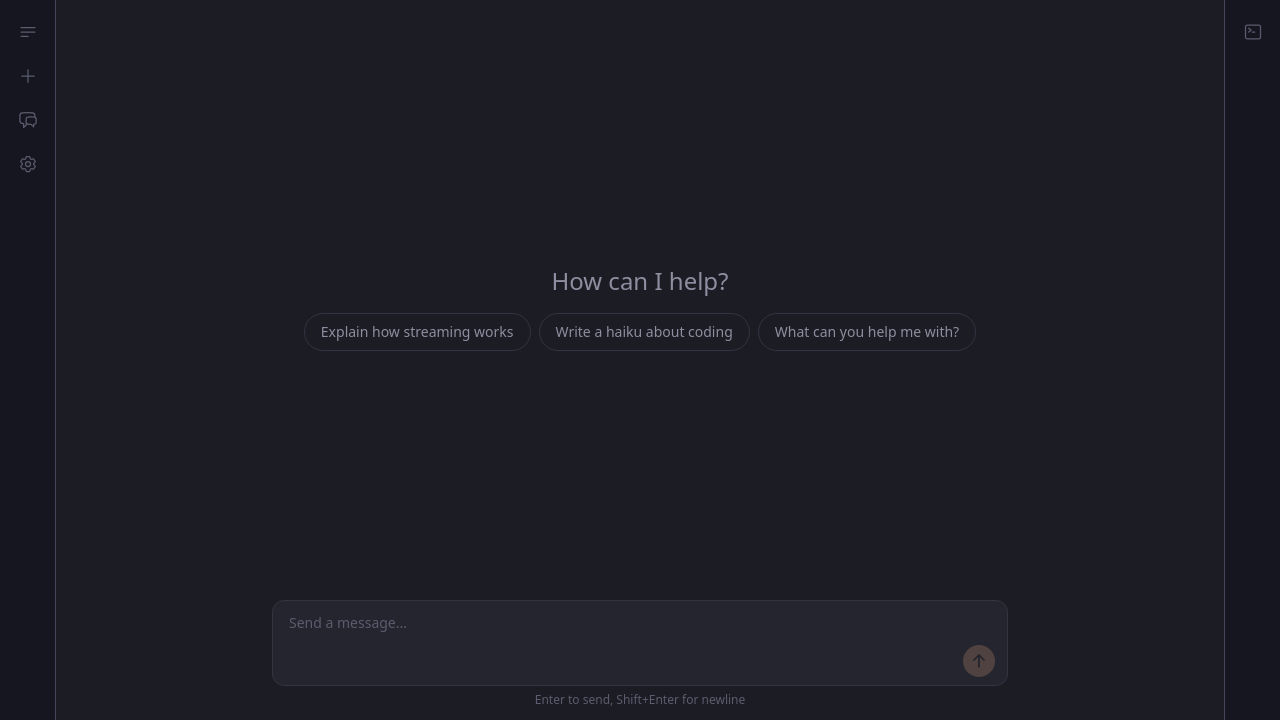
Test: ChatPage — handleSelectConversation › loads messages from history pane into the chat
The width and height of the screenshot is (1280, 720).
Note: Expand history pane via the "View history" icon in the collapsed sidebar
Click the button named "view history": (28, 120) [8,100,47,140]
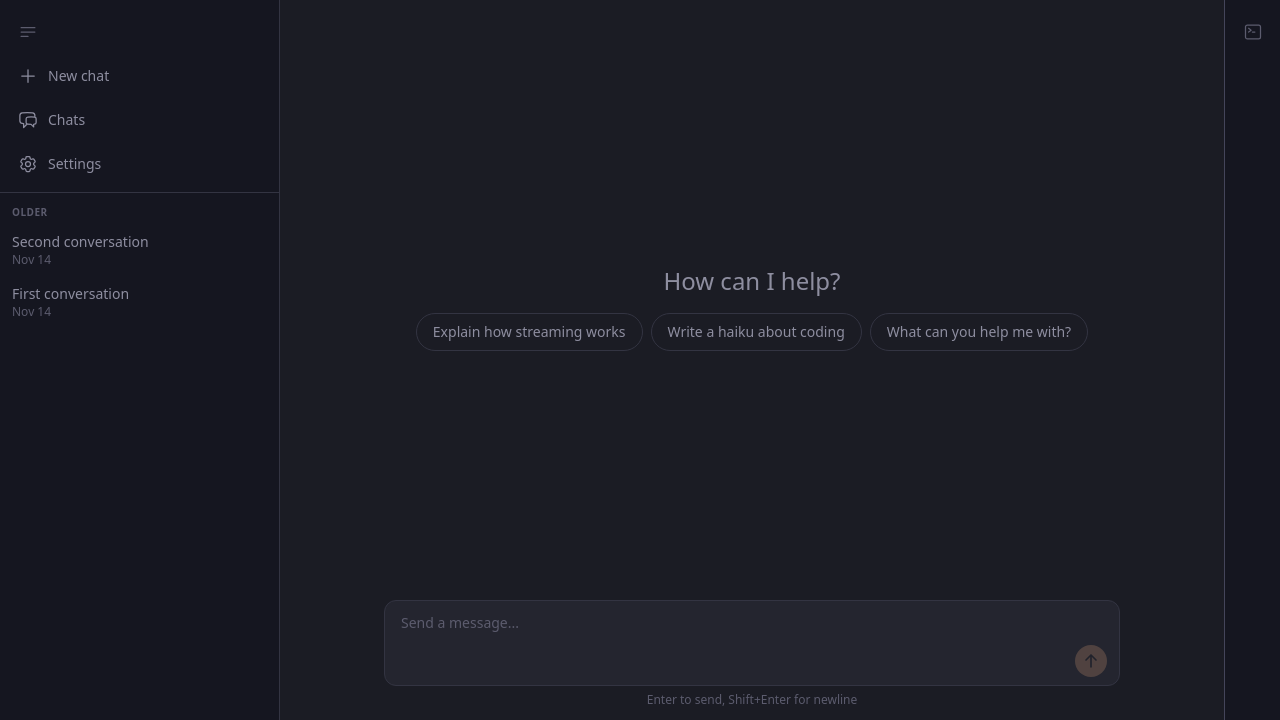
Now the text "First conversation" is shown
Note: Click a conversation to load its messages
Click the text "First conversation": (70, 294) [12,284,129,303]
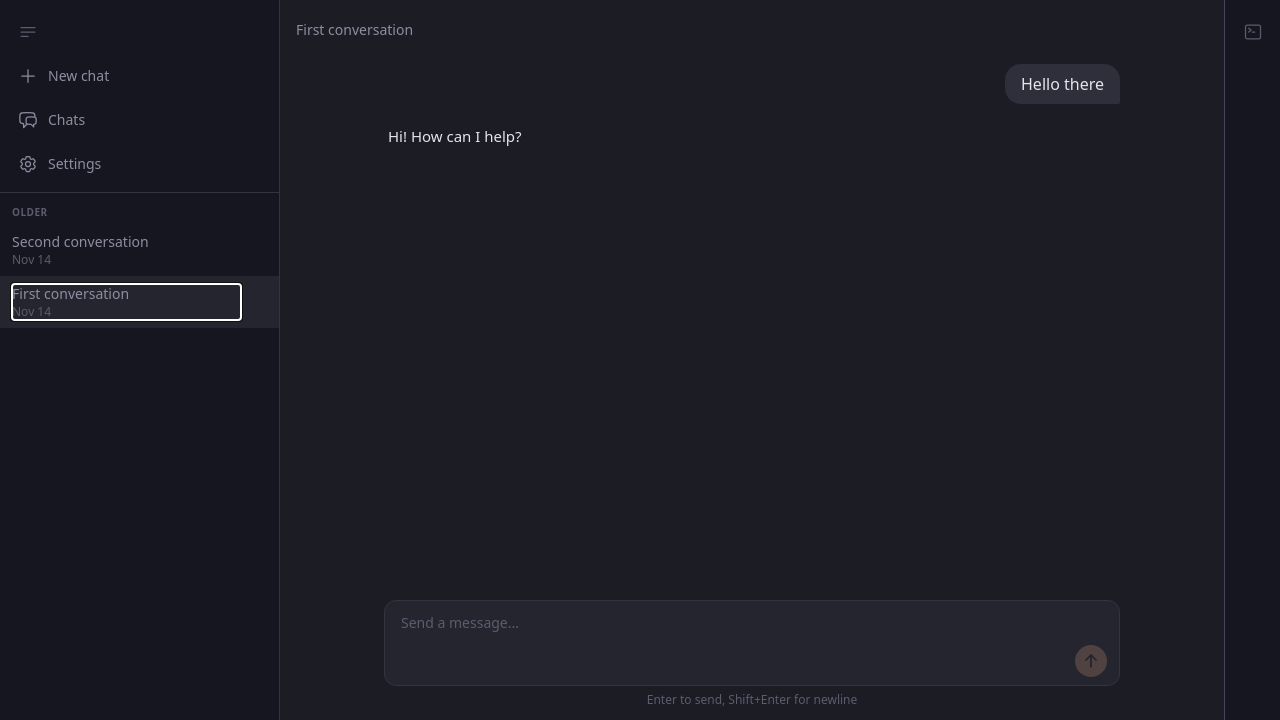
Now the text "Hello there" is shown, box [1005,64,1120,104]
Now the text "Hi! How can I help?" is shown, box [388,126,522,146]
